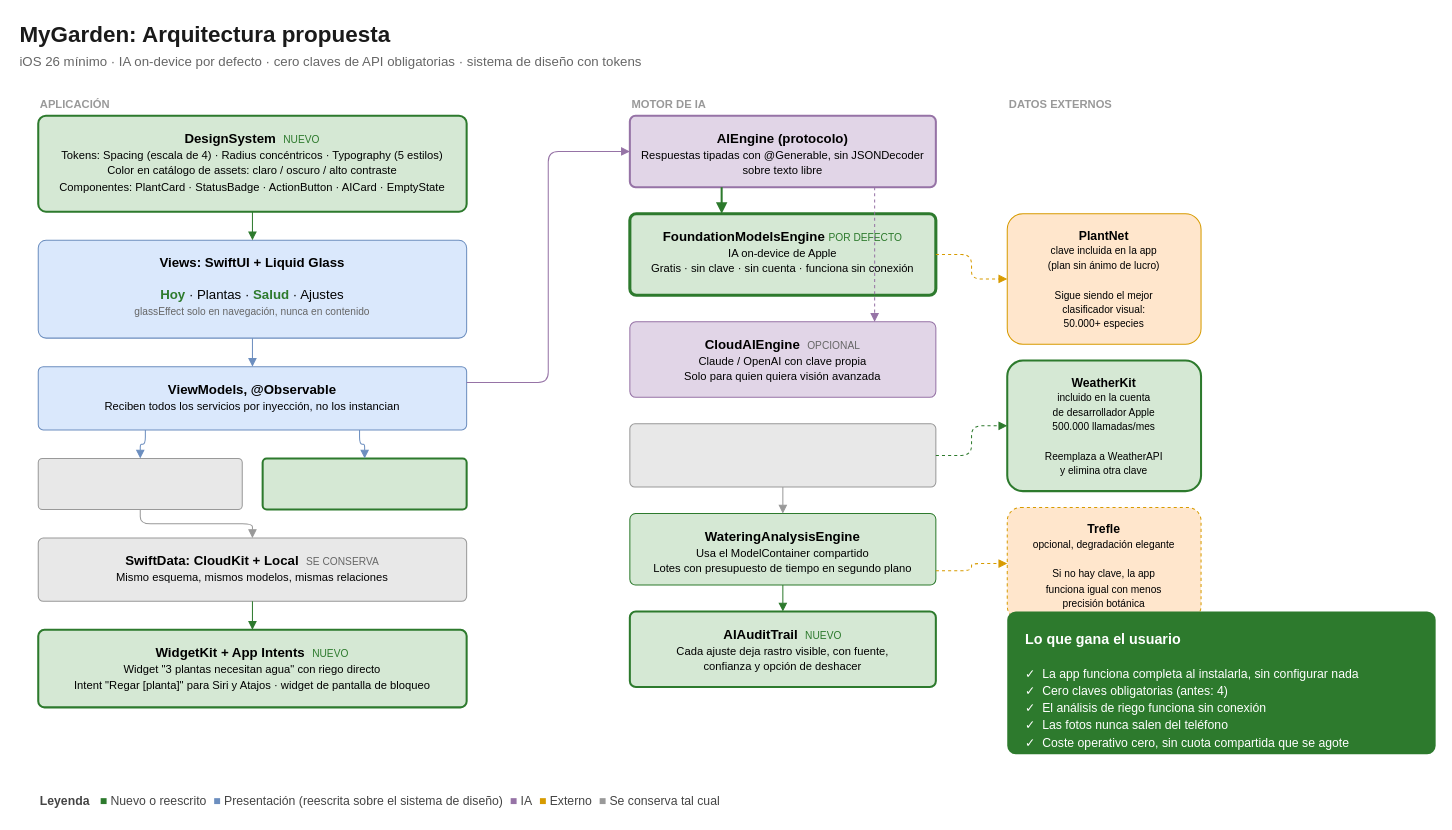
This 1452x830 diagram has some shape labels left out. Here are the shapes that lost their labels. From the top down, the centre of each, then its label:
the point at 782,455: ContextBuilder SE CONSERVA El buildWateringContext actual, que ya es excelente
the point at 139,483: Repositories SE CONSERVA
the point at 364,483: AppSettings UNIFICADO una sola fuente de verdad
